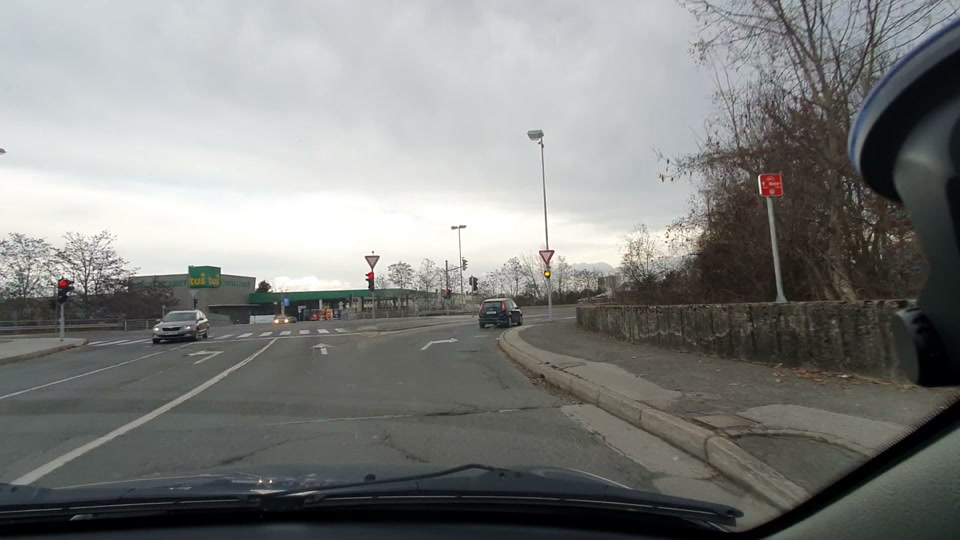vehicle_ign: (472, 293, 524, 332)
vehicle_s: (150, 304, 214, 346)
